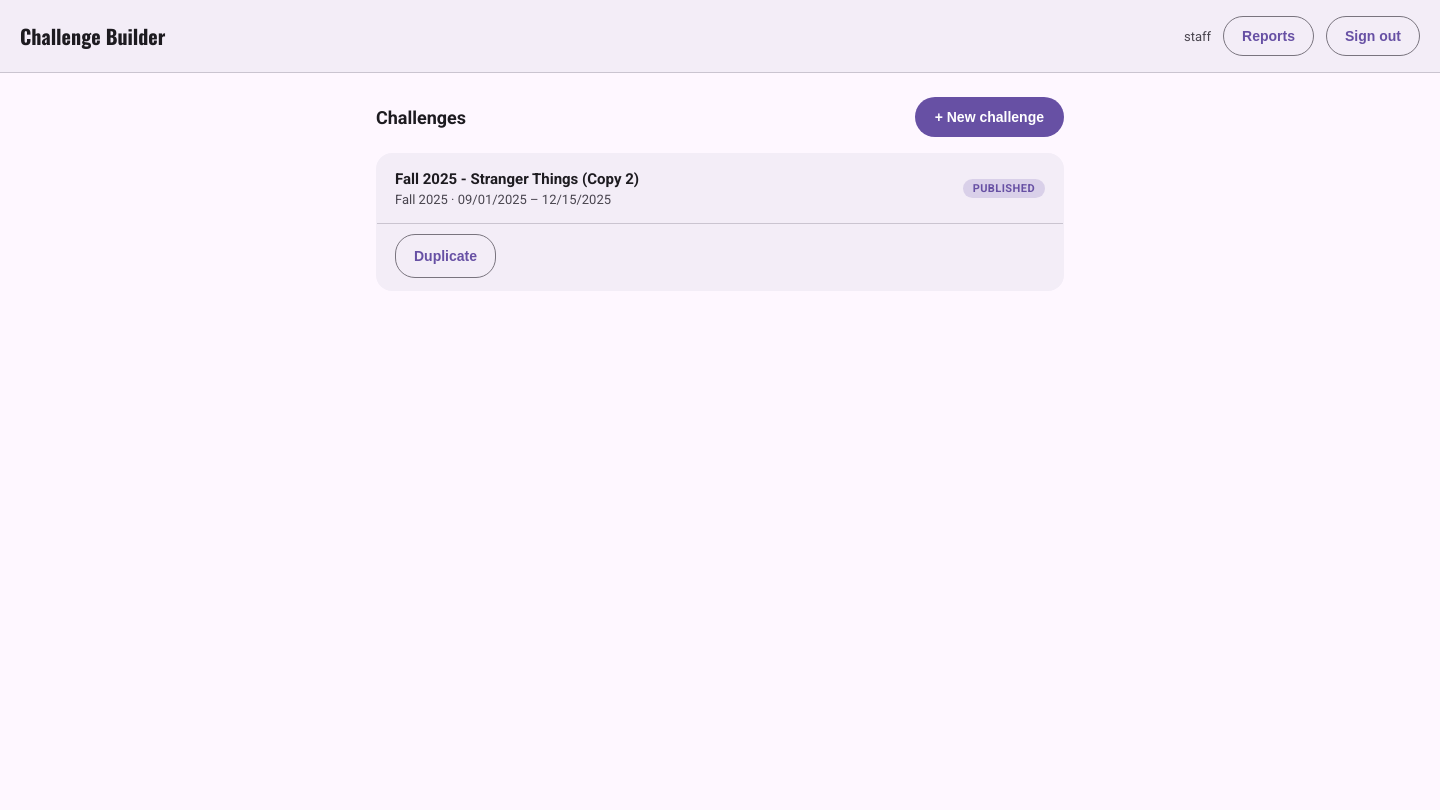
Test: ChallengeBuilder — duplicate (US-14 / FR-B6) › suggests one copy suffix when duplicating a copy, not two
Check: the heading "Fall 2025 - Stranger Things (Copy 2)" is shown, box [395, 170, 639, 188]
Click the button "Duplicate".
click(446, 256)  # box [395, 234, 496, 278]
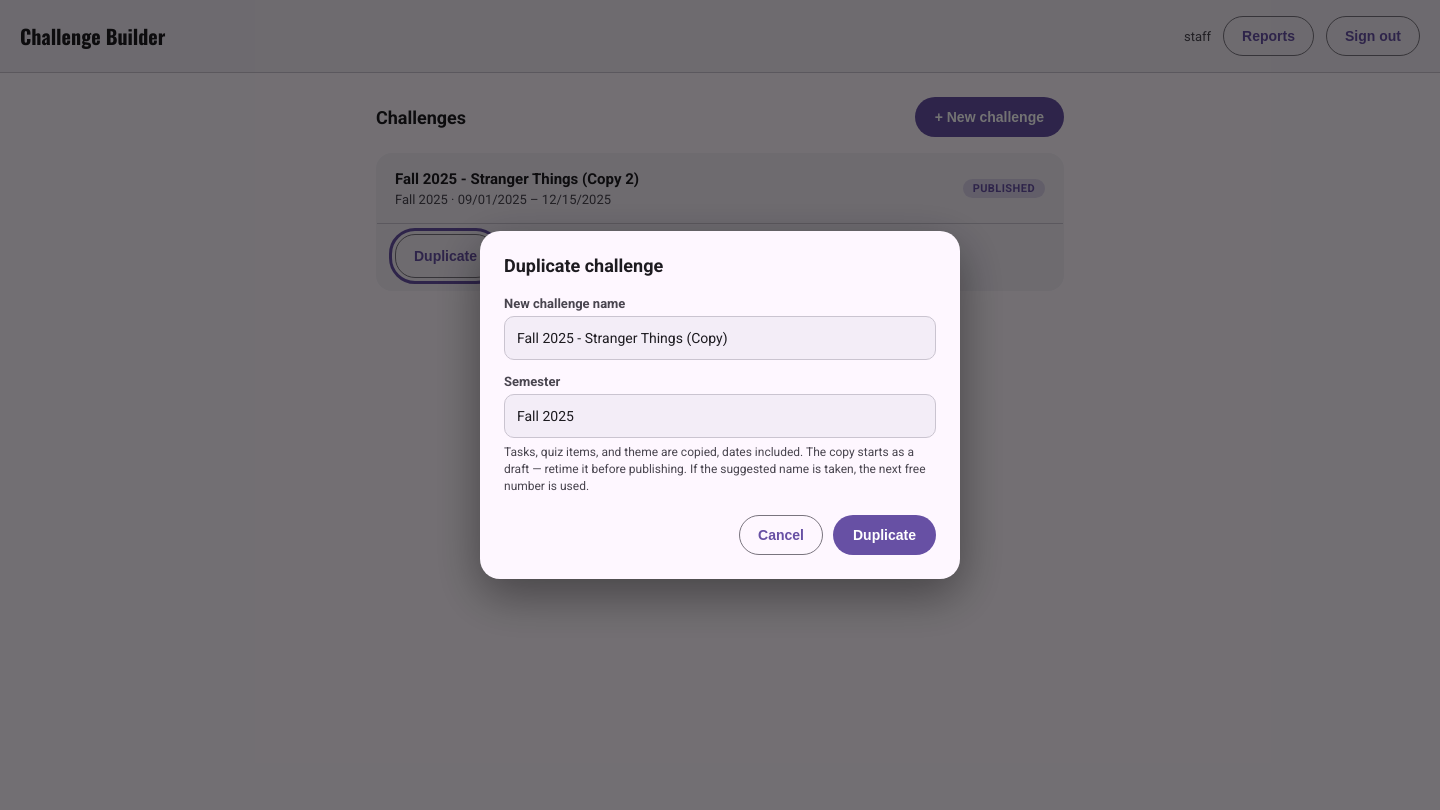
Check: the field labelled "New challenge name" holds "Fall 2025 - Stranger Things (Copy)", box [504, 316, 936, 360]
